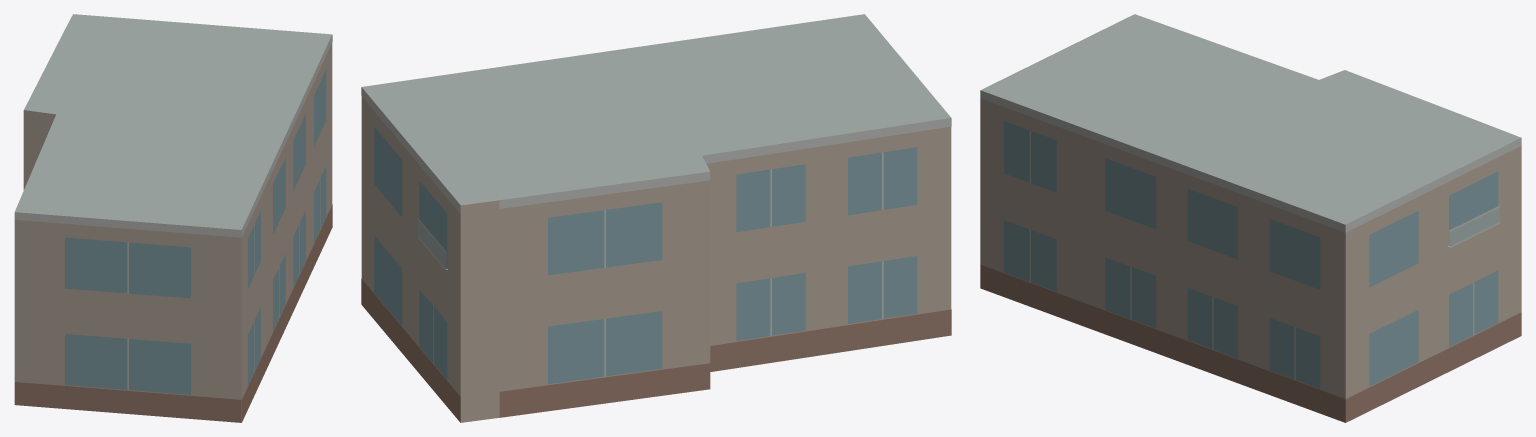
Rendered from survey-upis-32567812.glb.
3 renders of one model, left to right at view 1: azimuth 30°, elevation 25°; view 2: azimuth 150°, elevation 25°; view 3: azimuth 270°, elevation 25°, orthographic. The views are drawn at different scales.
Parts seen in each view (by area): view 1: survey-upis-32567812.tmp; view 2: survey-upis-32567812.tmp; view 3: survey-upis-32567812.tmp.
Part boxes in pixels (x1,y1,x2,y2): survey-upis-32567812.tmp: [14, 14, 332, 422]; survey-upis-32567812.tmp: [361, 14, 951, 422]; survey-upis-32567812.tmp: [980, 14, 1521, 422].
Size of the model in its own units: 13.93 by 6.1 by 15.11.
